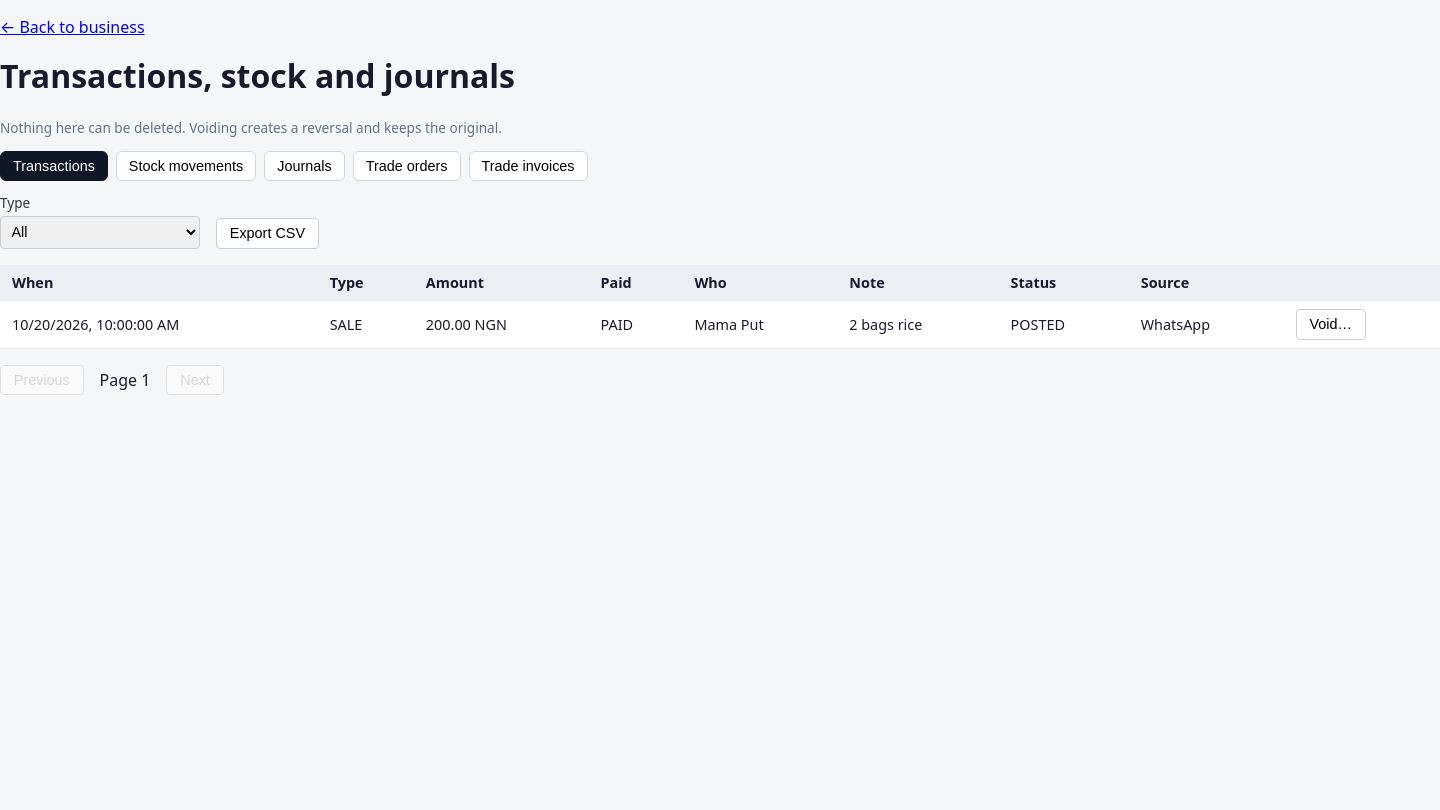
Test: TransactionsPage › voids with a reason of at least 10 characters, then reloads and explains the original is kept
Click the button "Void…". click: click(1331, 324)
box: [1296,309,1366,340]
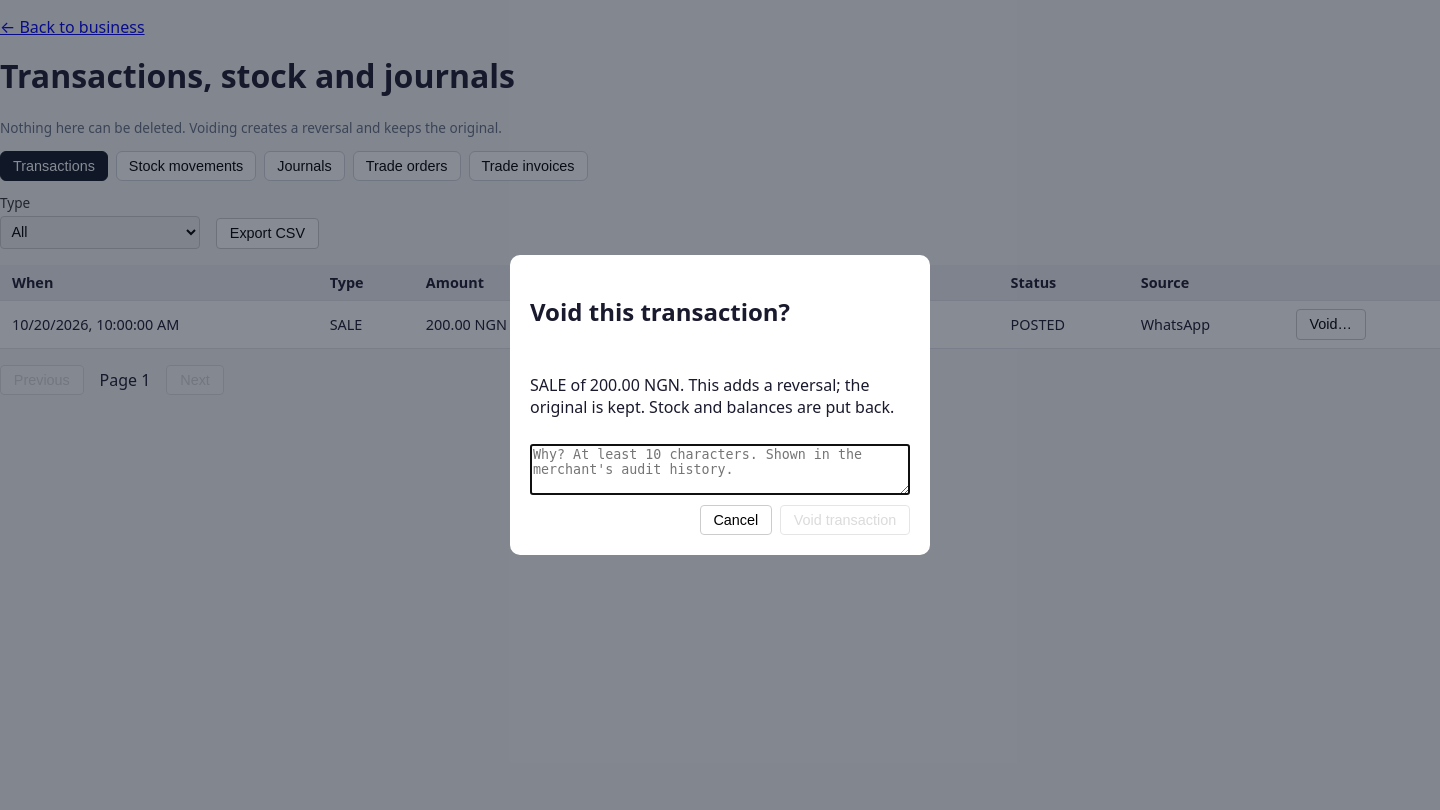
Expected: the button "Void transaction" is disabled, [780,504,910,535]
Type "too short" into the text box named "Reason". click: (720, 469)
box: [530,444,910,494]
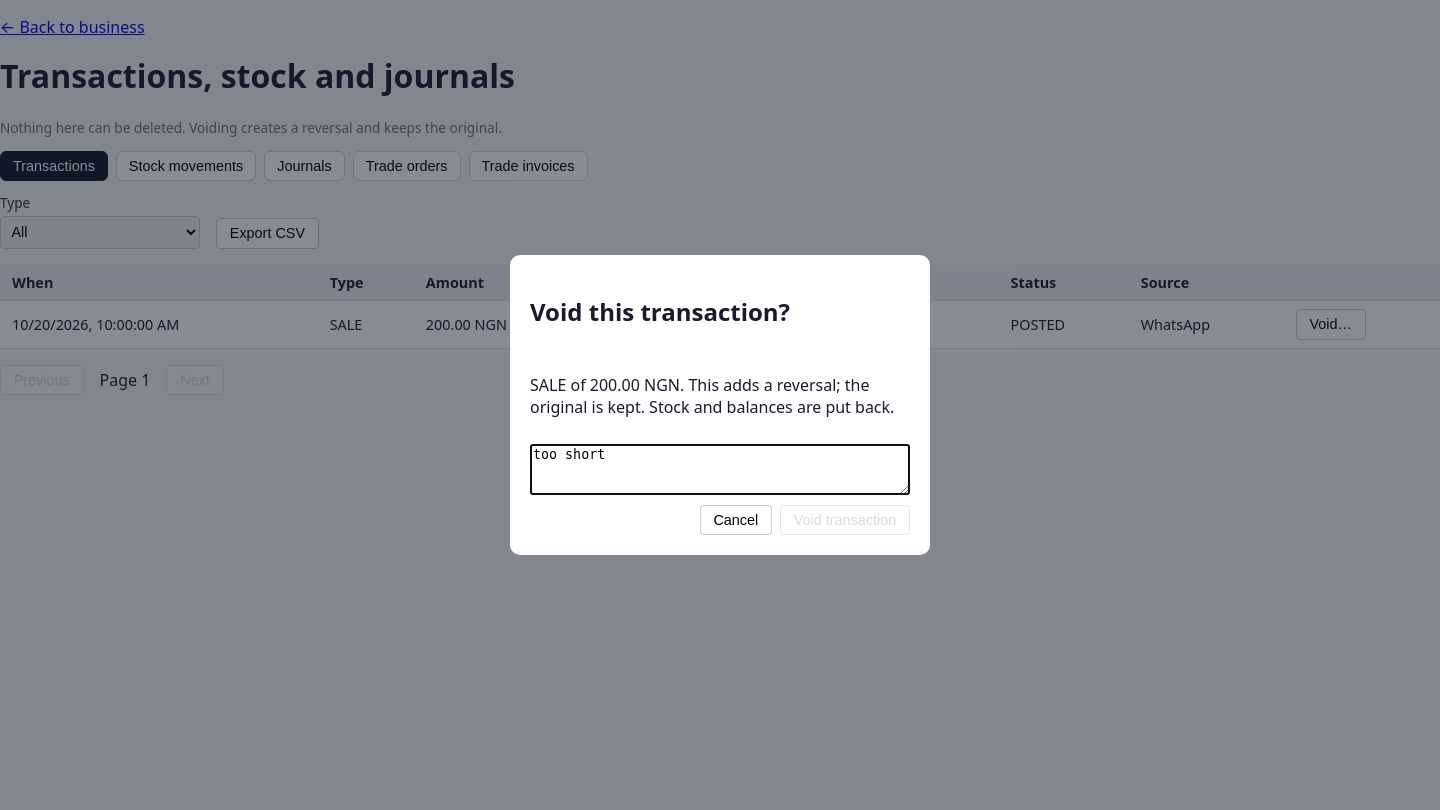
Expected: the button "Void transaction" is disabled, [780,504,910,535]
Type " now long enough" into the text box named "Reason". click: (720, 469)
box: [530,444,910,494]
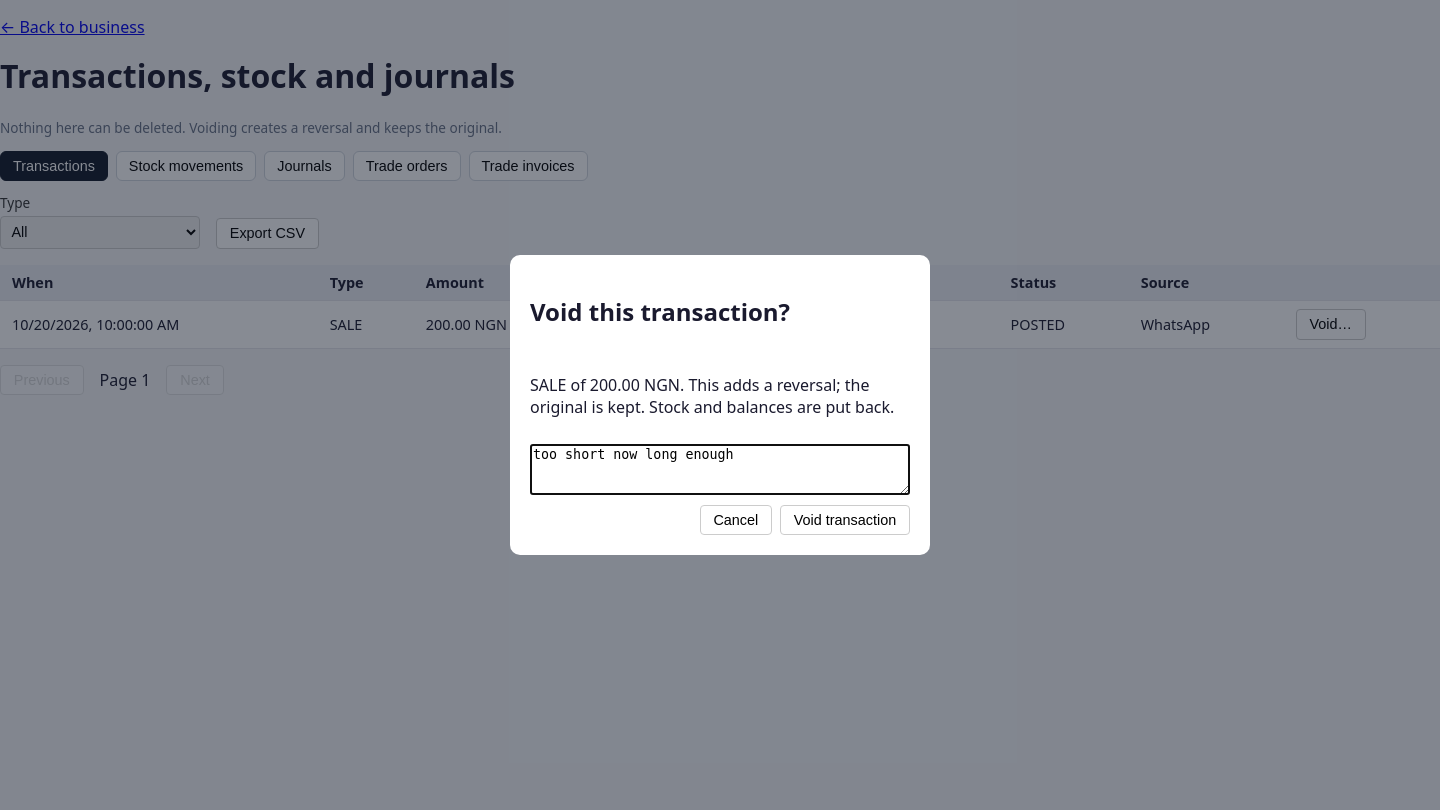
Click the button "Void transaction". click: click(845, 520)
box: [780,504,910,535]
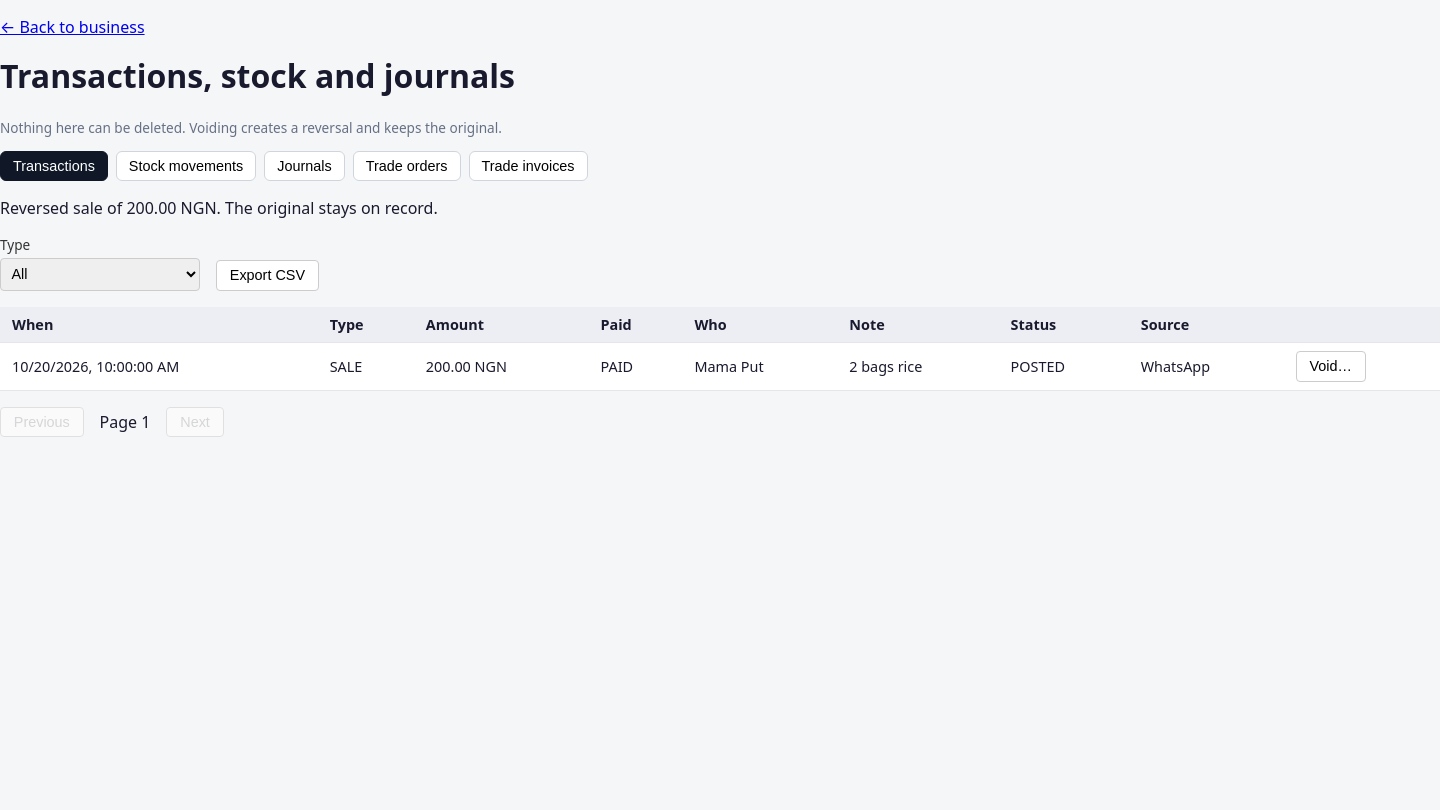
Expected: the message shows "original stays on record", [0,197,438,219]
